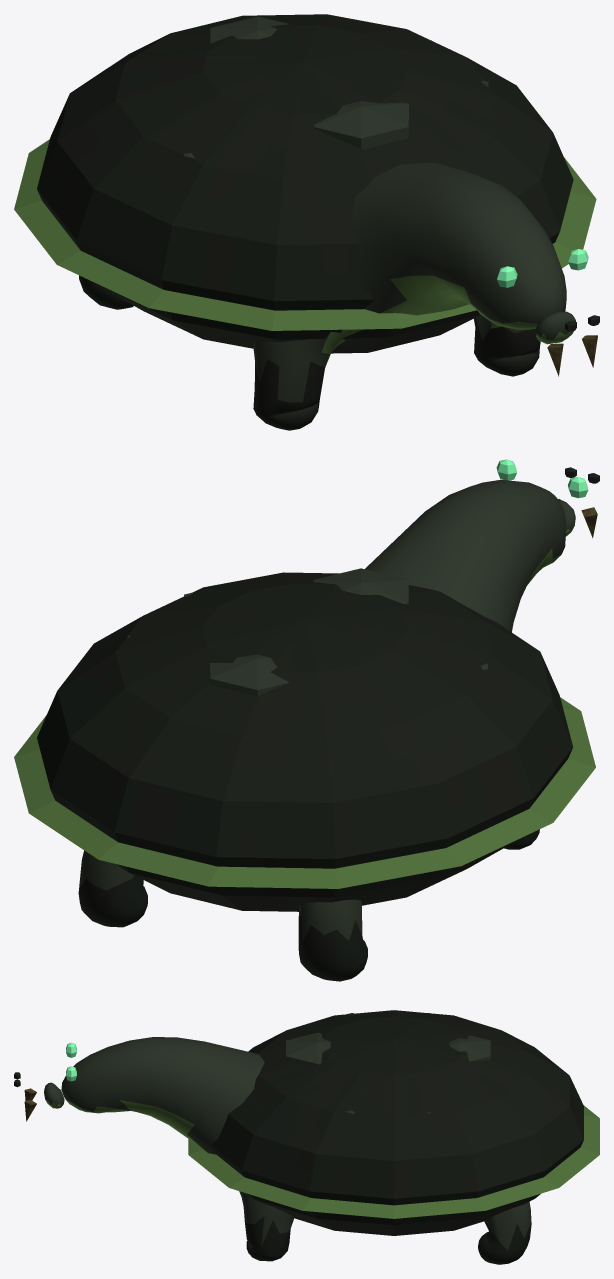
File: pet_pt_hyeonmu.glb
3 renders of one model, top to bottom at view 1: azimuth 30°, elevation 25°; view 2: azimuth 150°, elevation 25°; view 3: azimuth 270°, elevation 25°, orthographic. The views are drawn at different scales.
Visible parts, largest first — view 1: pet_pt_hyeonmu; view 2: pet_pt_hyeonmu; view 3: pet_pt_hyeonmu.
Part boxes in pixels (x1=…): pet_pt_hyeonmu: x1=14, y1=14, x2=599, y2=430; pet_pt_hyeonmu: x1=14, y1=459, x2=599, y2=981; pet_pt_hyeonmu: x1=14, y1=1010, x2=599, y2=1264.
Bounding box in the file's own units: 1.2 × 0.6328 × 1.8.
Materials: 5 (5 with a texture image).
